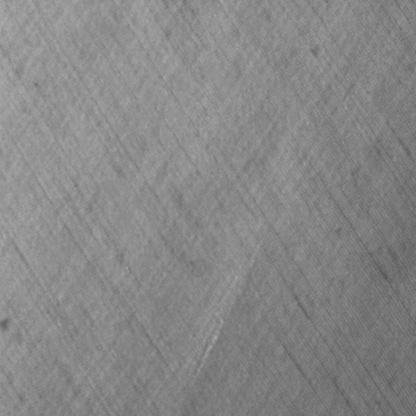thread error: (188, 246, 258, 384)
